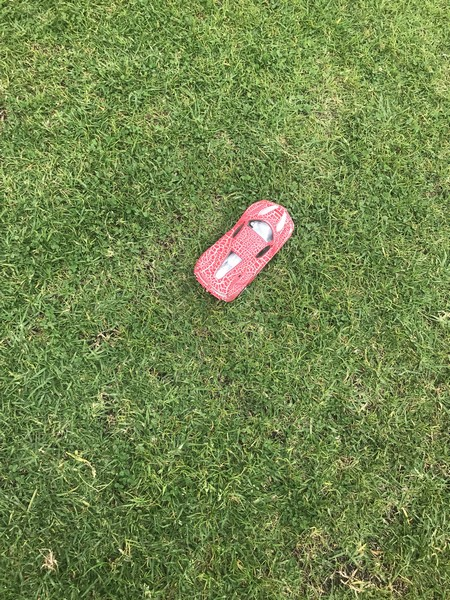RC: (192, 198, 296, 306)
